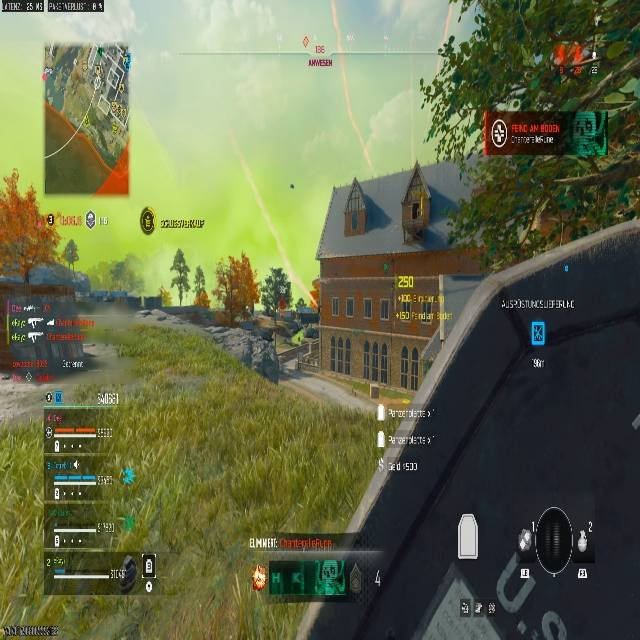player: (291, 319, 318, 368), (168, 249, 191, 303)
